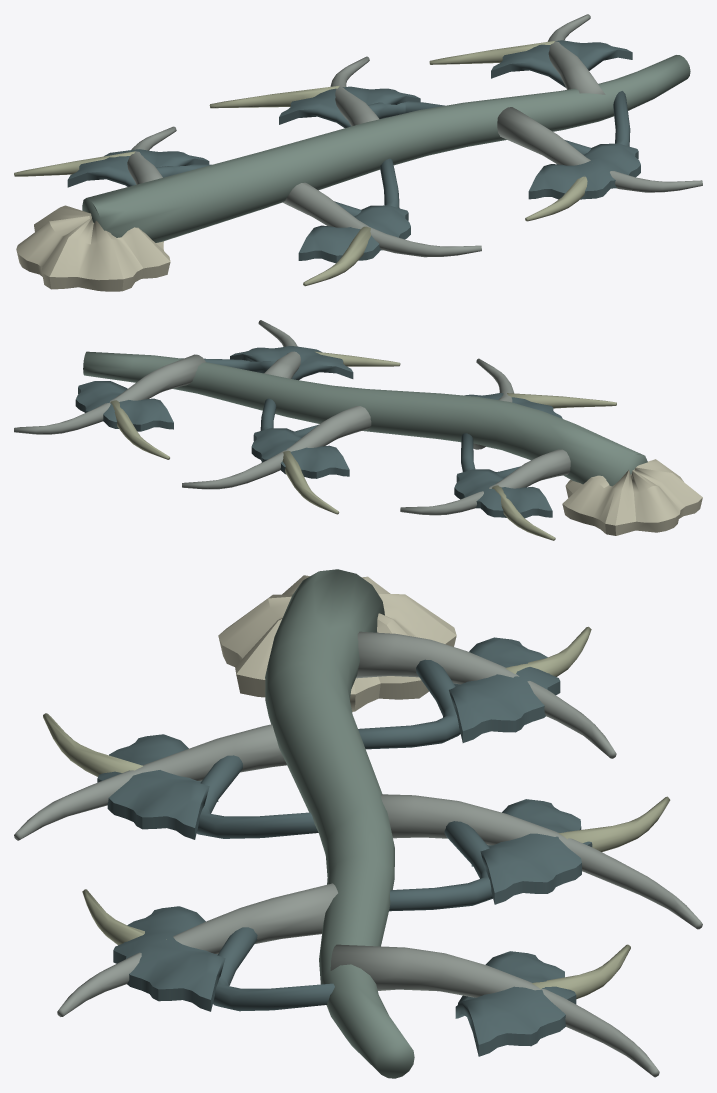
The model's file is branching_nerve_mat_lod1.glb.
3 renders of one model, top to bottom at view 1: azimuth 30°, elevation 25°; view 2: azimuth 150°, elevation 25°; view 3: azimuth 270°, elevation 25°, orthographic. The views are drawn at different scales.
Parts seen in each view (by area): view 1: LOD1_tissue_mature, LOD1_tissue_fold, LOD1_tissue, LOD1_calcite, LOD1_tissue_young; view 2: LOD1_tissue_mature, LOD1_tissue_fold, LOD1_tissue, LOD1_calcite, LOD1_tissue_young; view 3: LOD1_tissue_fold, LOD1_tissue, LOD1_tissue_mature, LOD1_calcite, LOD1_tissue_young.
Part boxes in pixels (<box>): LOD1_tissue_mature: <box>82,55,690,242</box>; LOD1_tissue_fold: <box>67,40,640,263</box>; LOD1_tissue: <box>127,14,702,257</box>; LOD1_calcite: <box>16,205,170,291</box>; LOD1_tissue_young: <box>14,41,587,286</box>; LOD1_tissue_mature: <box>83,351,647,486</box>; LOD1_tissue_fold: <box>75,346,562,518</box>; LOD1_tissue: <box>14,320,570,515</box>; LOD1_calcite: <box>562,459,702,535</box>; LOD1_tissue_young: <box>110,351,616,540</box>; LOD1_tissue_fold: <box>97,637,592,1056</box>; LOD1_tissue: <box>14,631,702,1077</box>; LOD1_tissue_mature: <box>265,569,414,1078</box>; LOD1_calcite: <box>218,575,456,711</box>; LOD1_tissue_young: <box>43,626,670,999</box>.
Bounding box in the file's own units: 4.01 × 0.4249 × 2.36.
